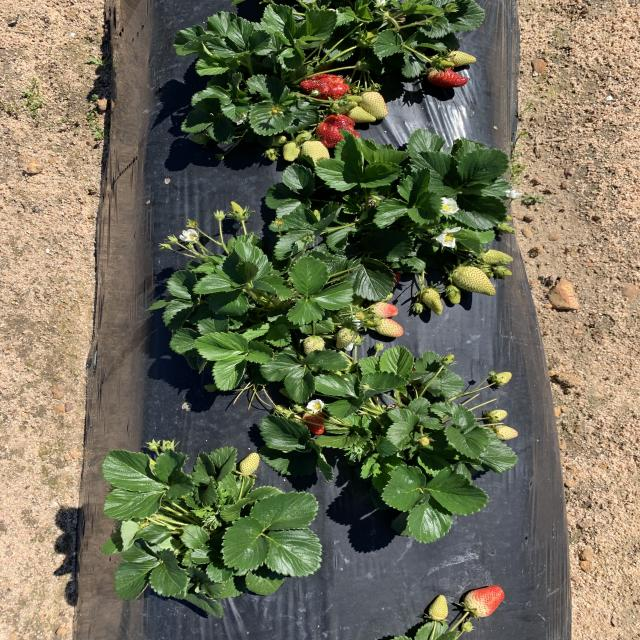unripe: (311, 114, 367, 156), (298, 68, 358, 102), (462, 584, 508, 618), (423, 63, 474, 91), (300, 406, 331, 436), (377, 266, 402, 292)
